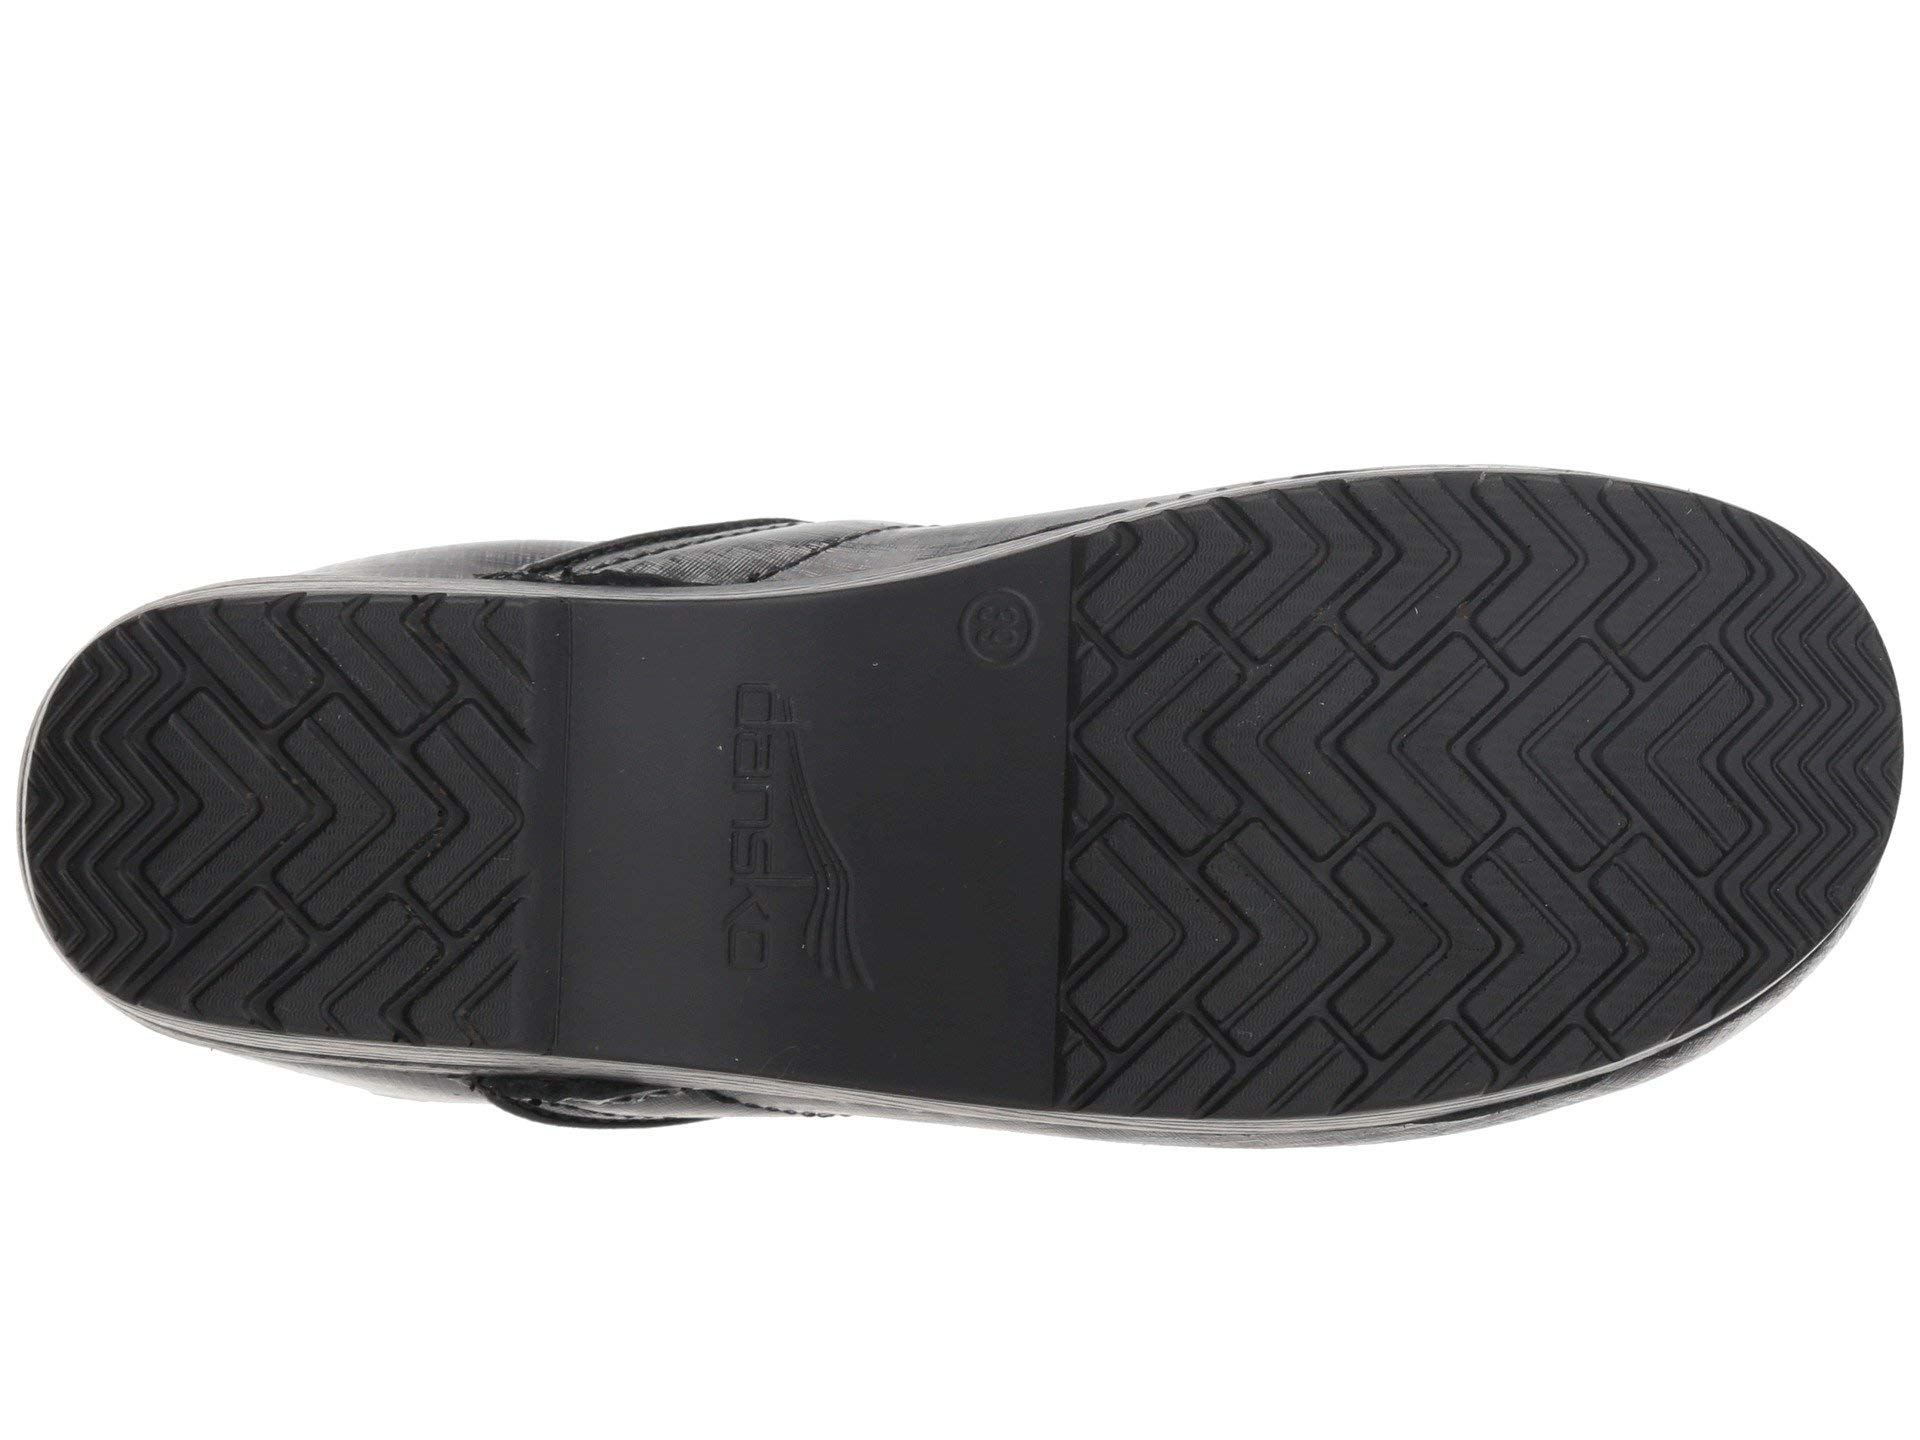chevron: (1200, 502, 1725, 1030), (104, 644, 440, 1001)
circle: (939, 551, 1072, 722)
text: (939, 551, 1072, 722)
